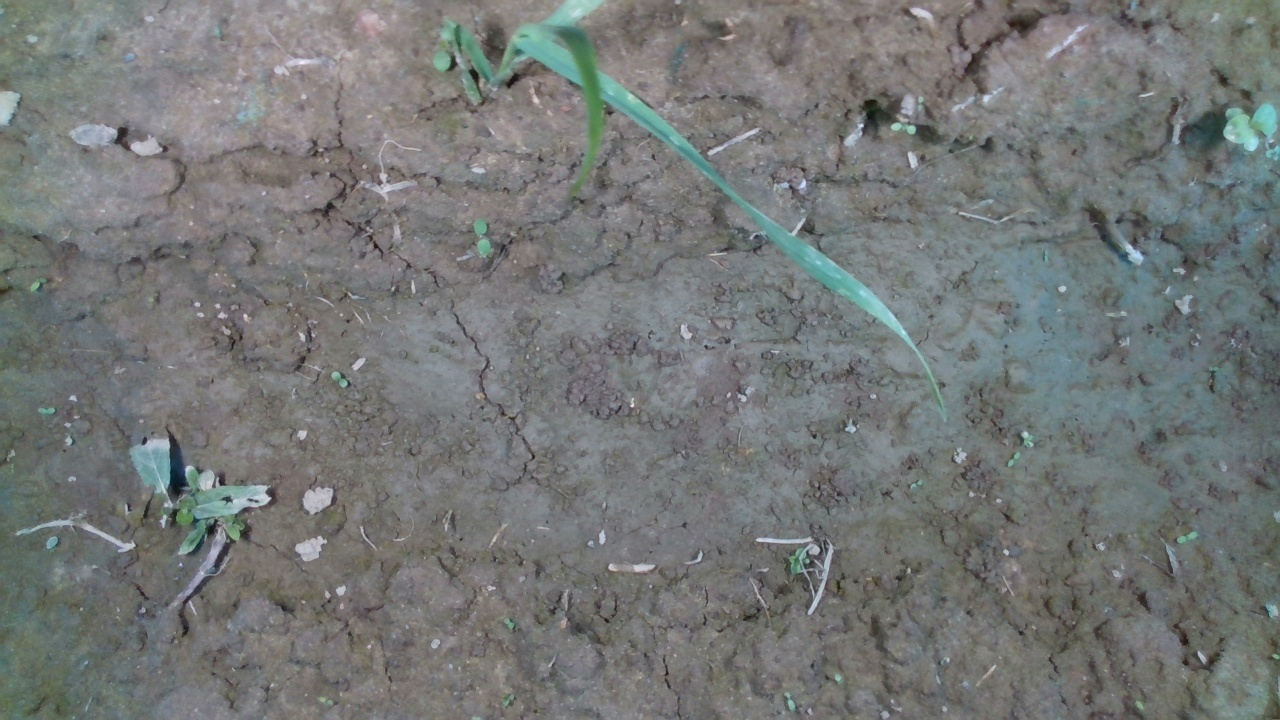weed: (460, 216, 497, 257), (323, 368, 362, 388), (1020, 427, 1049, 447), (839, 422, 864, 433)
